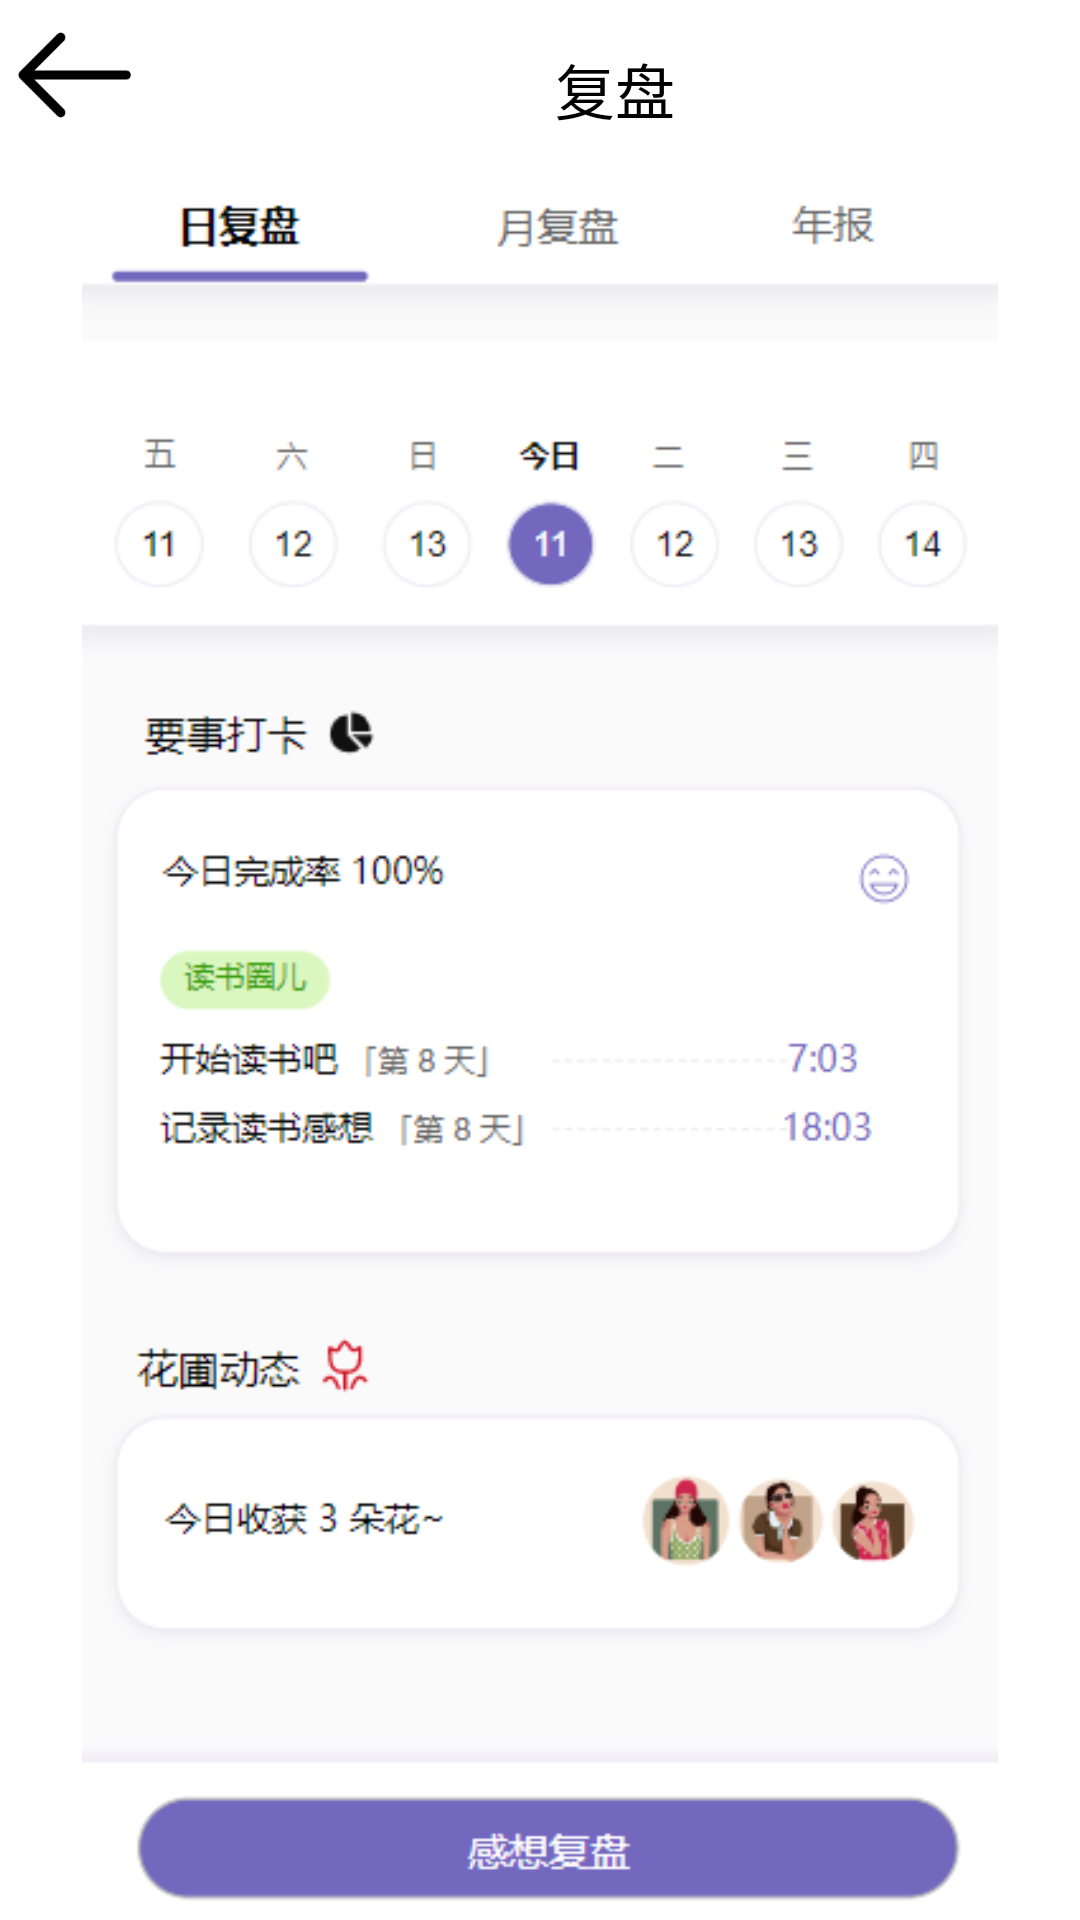

Point at icon controls on the screen. Image size 1080px×1920px, points as (x=x, y=y).
return last: (x=74, y=75)
